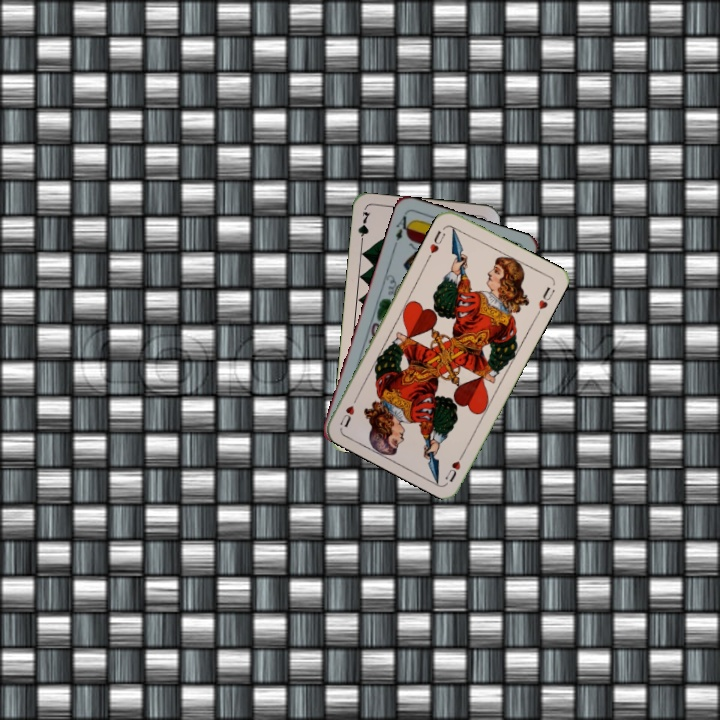EA: (391, 210, 414, 243)
G7: (354, 207, 373, 248)
HU: (441, 447, 468, 485), (424, 226, 448, 261)
